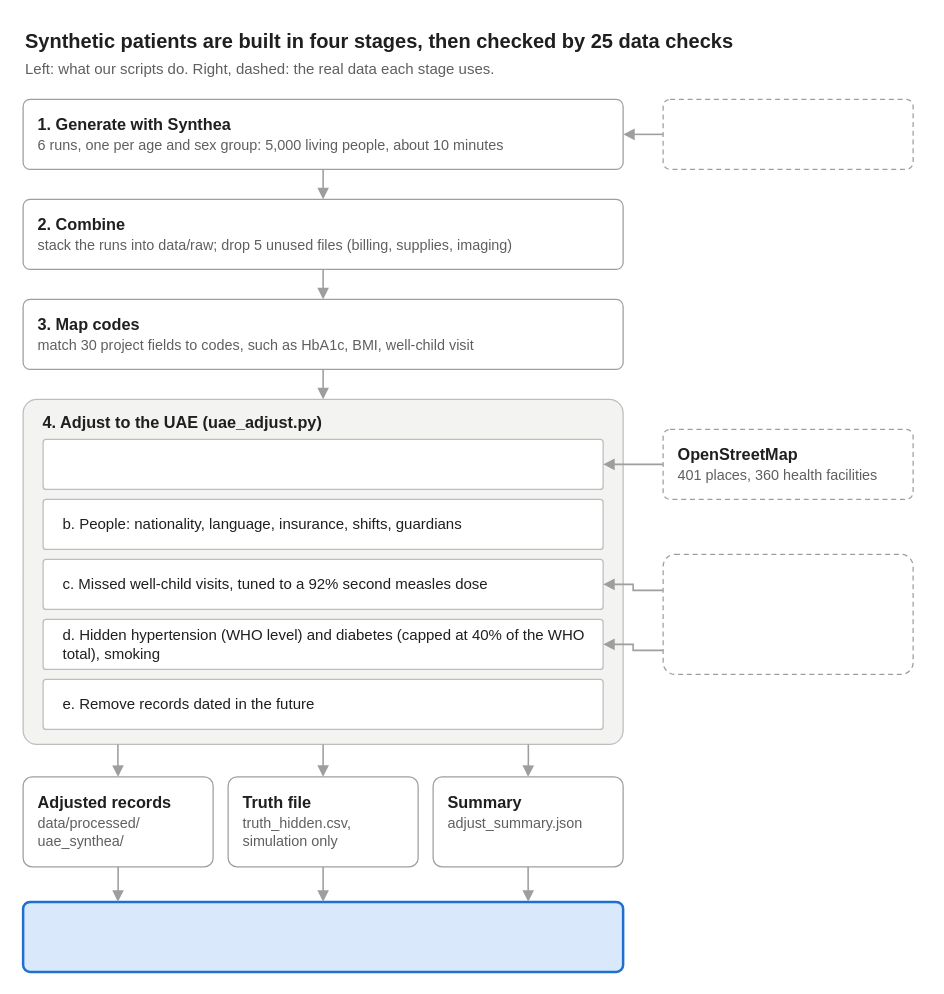
The diagram is 944 pixels wide and 994 high, and some of its shapes have lost their labels. Each missing label, with the centre of its shape:
a. Homes in 401 real places, distance to the nearest of 360 health facilities: the point at 322,463
Checked 25 data checks and DATA_REPORT.md: no problems found: the point at 322,936
WHO measles second dose, diabetes, hypertension, smoking targets: the point at 787,613
World Bank UAE age and sex, 2024: the point at 787,133
